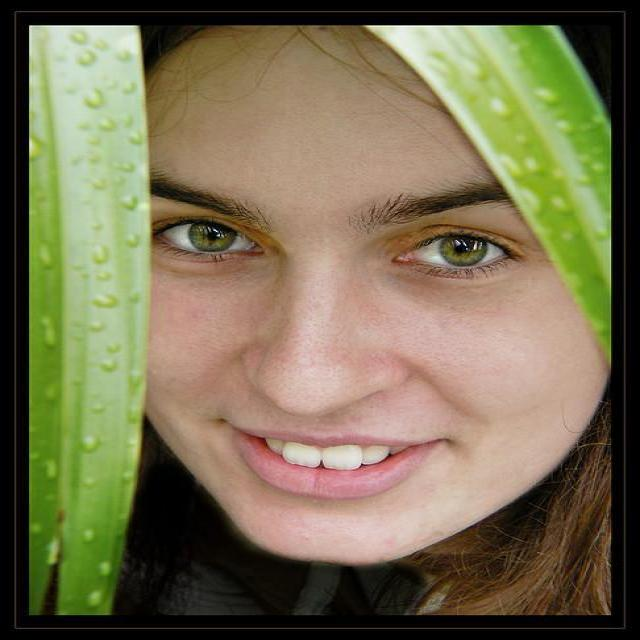no-glass: (150, 205, 524, 281)
